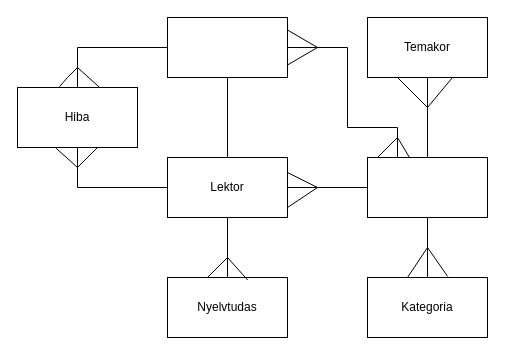
This 505x355 diagram has some shape labels left out. The centre of each missing label's shape, as x and y in pixels:
"Cikk" goes at pixel 427 187.
"Felhasznalo" goes at pixel 227 47.
